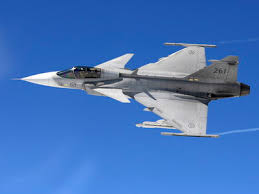fighter: (15, 40, 252, 138)
